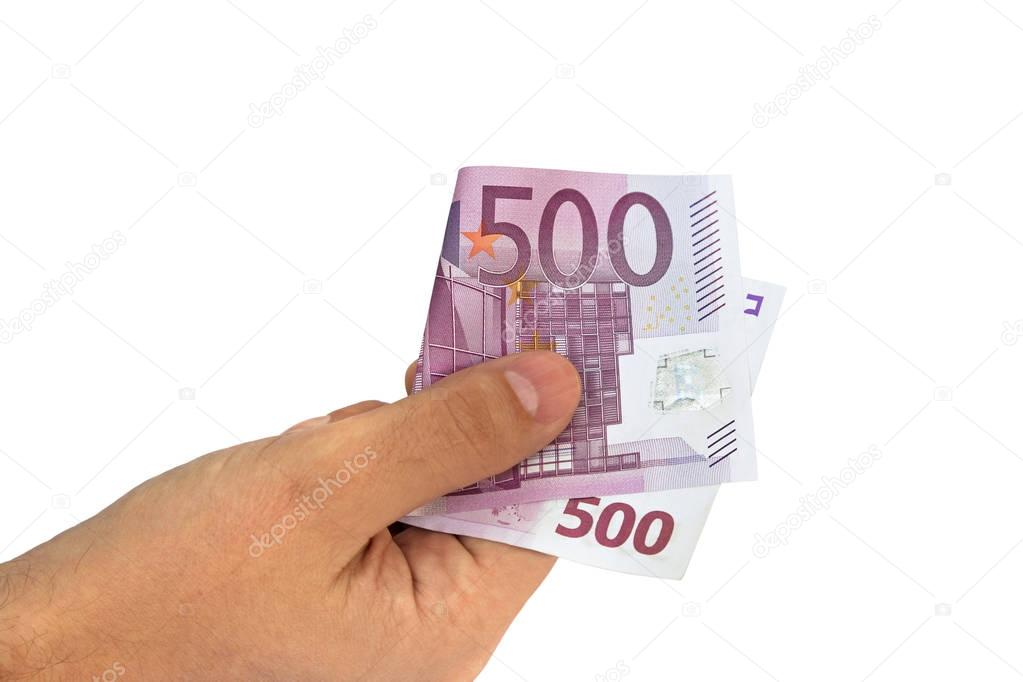billete: (389, 163, 797, 583)
